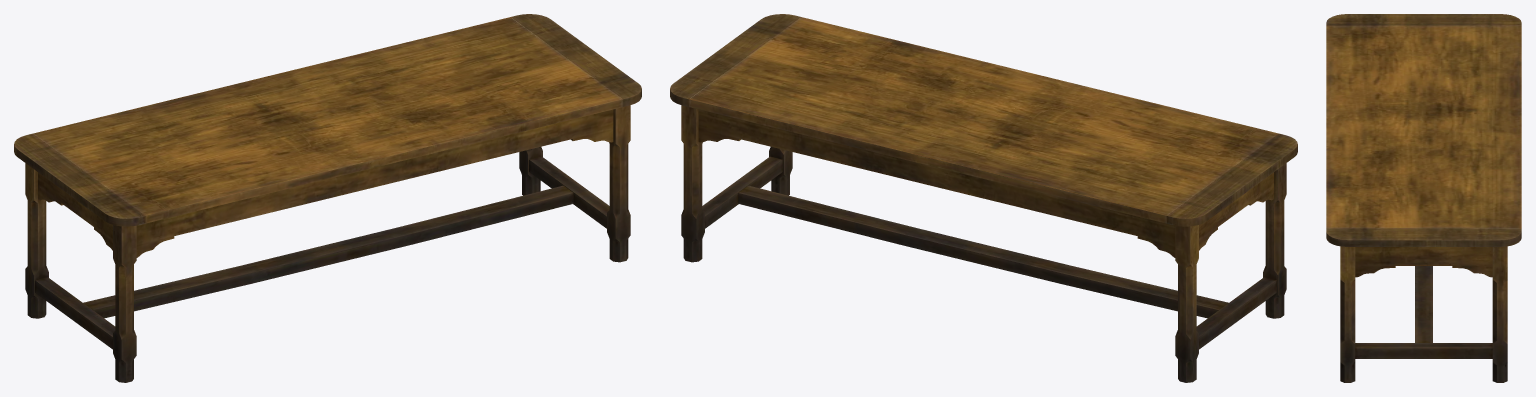
File: WoodenTable_01.glb
3 views of the same model, side by side, from view 1: azimuth 30°, elevation 25°; view 2: azimuth 150°, elevation 25°; view 3: azimuth 270°, elevation 25° (orthographic). The views are drawn at different scales.
Parts seen in each view (by area): view 1: WoodenTable_01; view 2: WoodenTable_01; view 3: WoodenTable_01.
Part boxes in pixels (box(x1,y1,x2,y2)): WoodenTable_01: box(14, 14, 641, 382); WoodenTable_01: box(670, 14, 1297, 382); WoodenTable_01: box(1326, 14, 1521, 382).
Bounding box in the file's own units: 1.8 × 0.5488 × 0.6572.
1 material, 1 textured.
